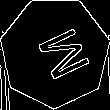M_SW: (23, 21, 87, 84)
